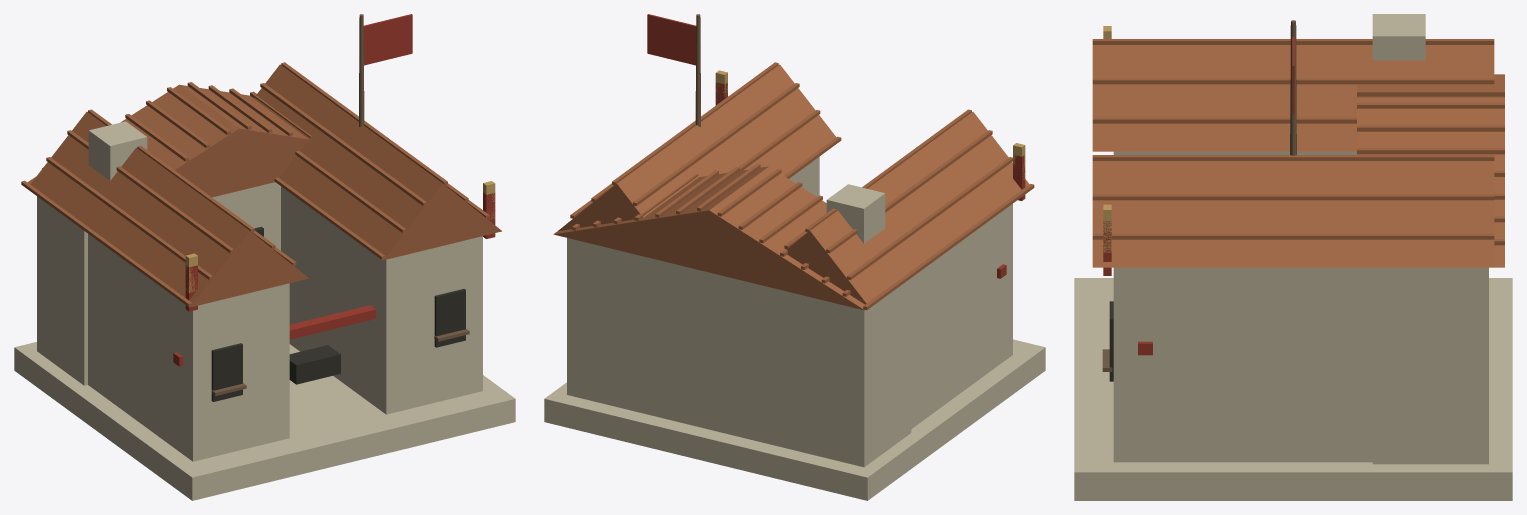
Rendered from b-smithy-roman.glb.
The picture shows the model from 3 angles, left to right: view 1: azimuth 30°, elevation 25°; view 2: azimuth 150°, elevation 25°; view 3: azimuth 270°, elevation 25°; orthographic projection. The views are drawn at different scales.
Visible parts, largest first — view 1: Structure, era1; view 2: Structure; view 3: Structure, era3.
Boxes of the visible parts, x1=… form: Structure: x1=14, y1=14, x2=515, y2=500; era1: x1=185, y1=202, x2=495, y2=311; Structure: x1=544, y1=14, x2=1045, y2=500; Structure: x1=1074, y1=14, x2=1512, y2=500; era3: x1=1103, y1=26, x2=1111, y2=252.
Bounding box in the file's own units: 4.35 × 4.6 × 4.15.
